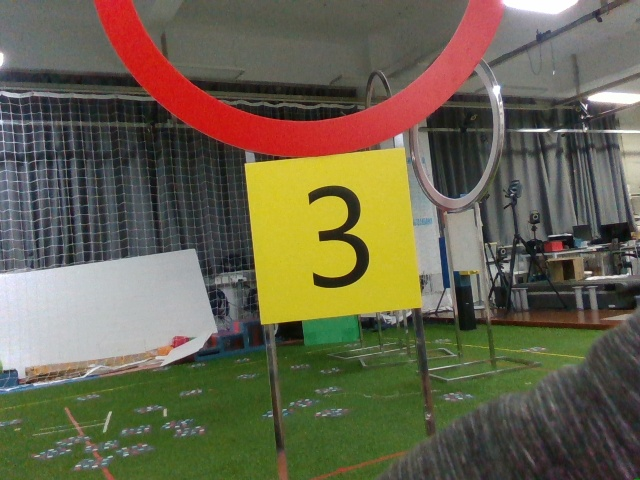target: (253, 155, 412, 308)
